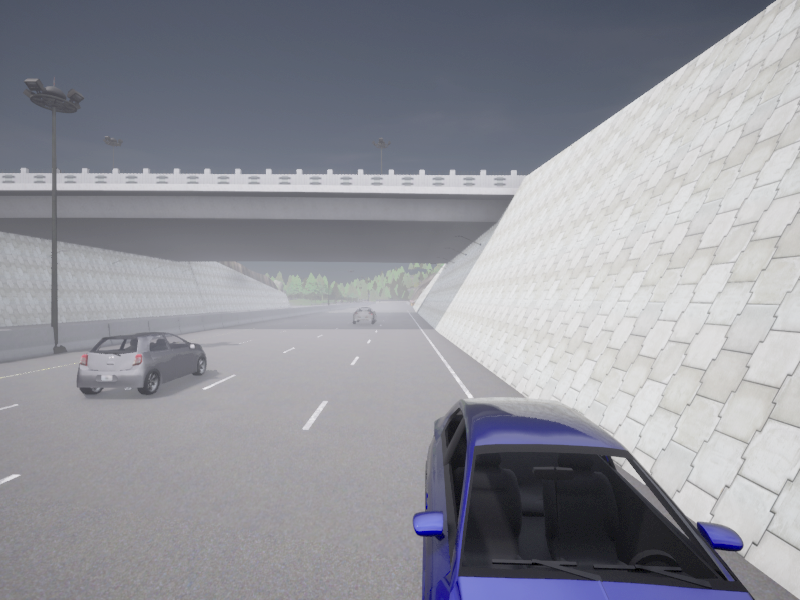vehicle: (412, 397, 754, 599), (77, 332, 206, 394), (353, 307, 376, 323)
